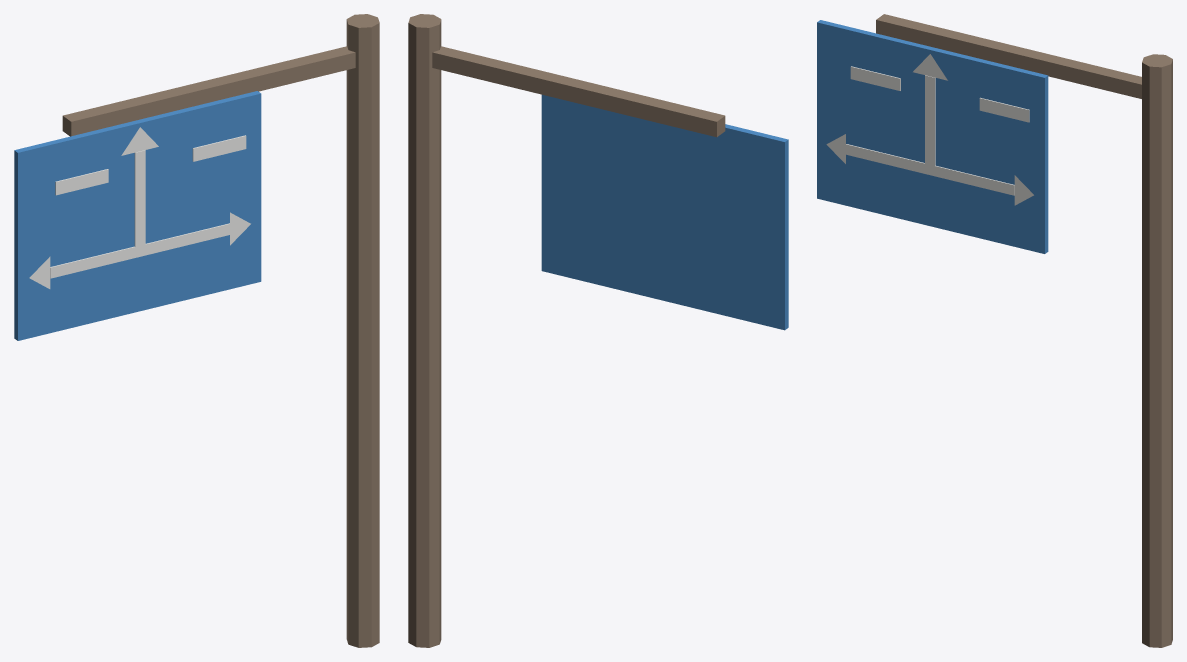
Rendered from HK_Sign_Guide.glb.
3 renders of one model, left to right at view 1: azimuth 30°, elevation 25°; view 2: azimuth 150°, elevation 25°; view 3: azimuth 330°, elevation 25°, orthographic. The views are drawn at different scales.
Visible parts, largest first — view 1: HK_Sign_Guide; view 2: HK_Sign_Guide; view 3: HK_Sign_Guide.
Part boxes in pixels (bbox=[...]): HK_Sign_Guide: bbox=[14, 14, 379, 647]; HK_Sign_Guide: bbox=[408, 14, 788, 647]; HK_Sign_Guide: bbox=[817, 14, 1172, 647].
Size of the model in its own units: 3.49 by 5.6 by 0.305.
